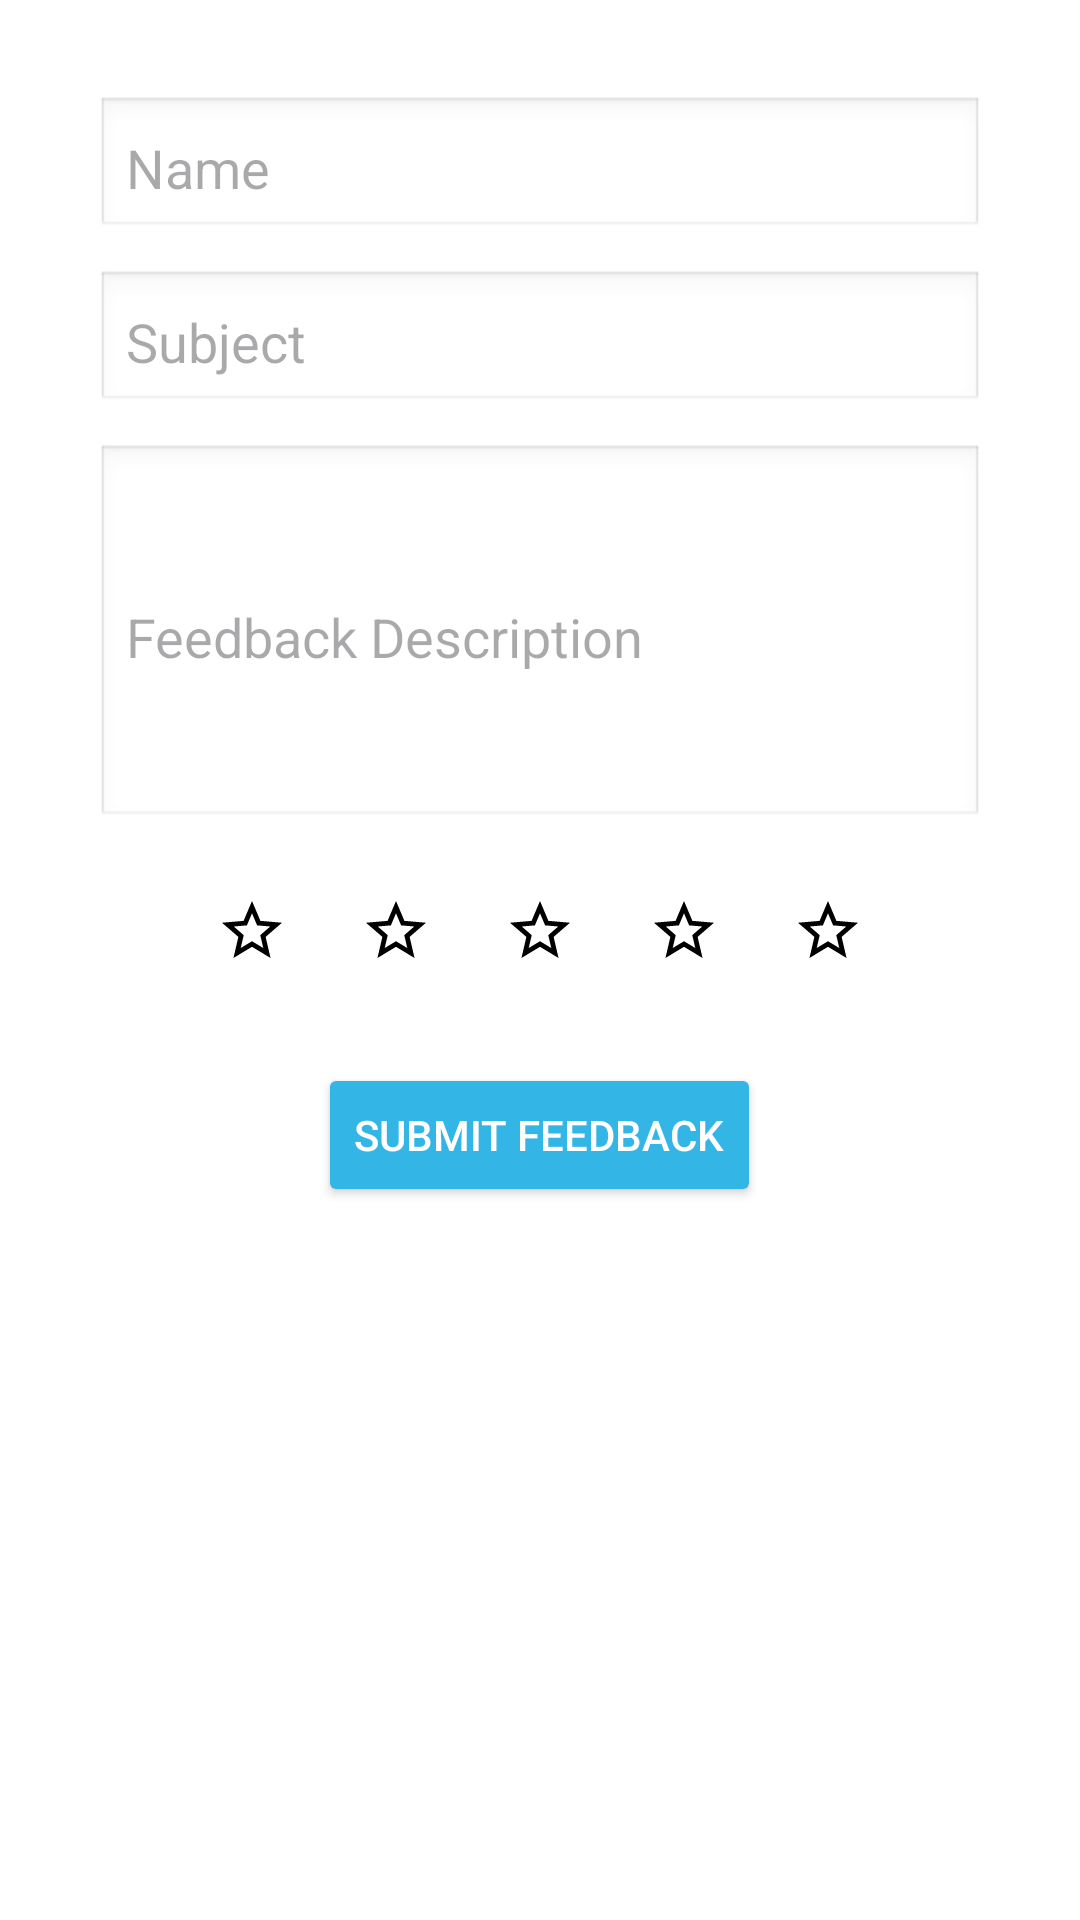

Where icons sit on this 1080×1920 app screen, as bbox=[x1, y1, x2, y2]:
star: bbox=[222, 901, 282, 958], bbox=[366, 901, 426, 958], bbox=[510, 901, 570, 958], bbox=[654, 901, 714, 958], bbox=[798, 901, 858, 958]
